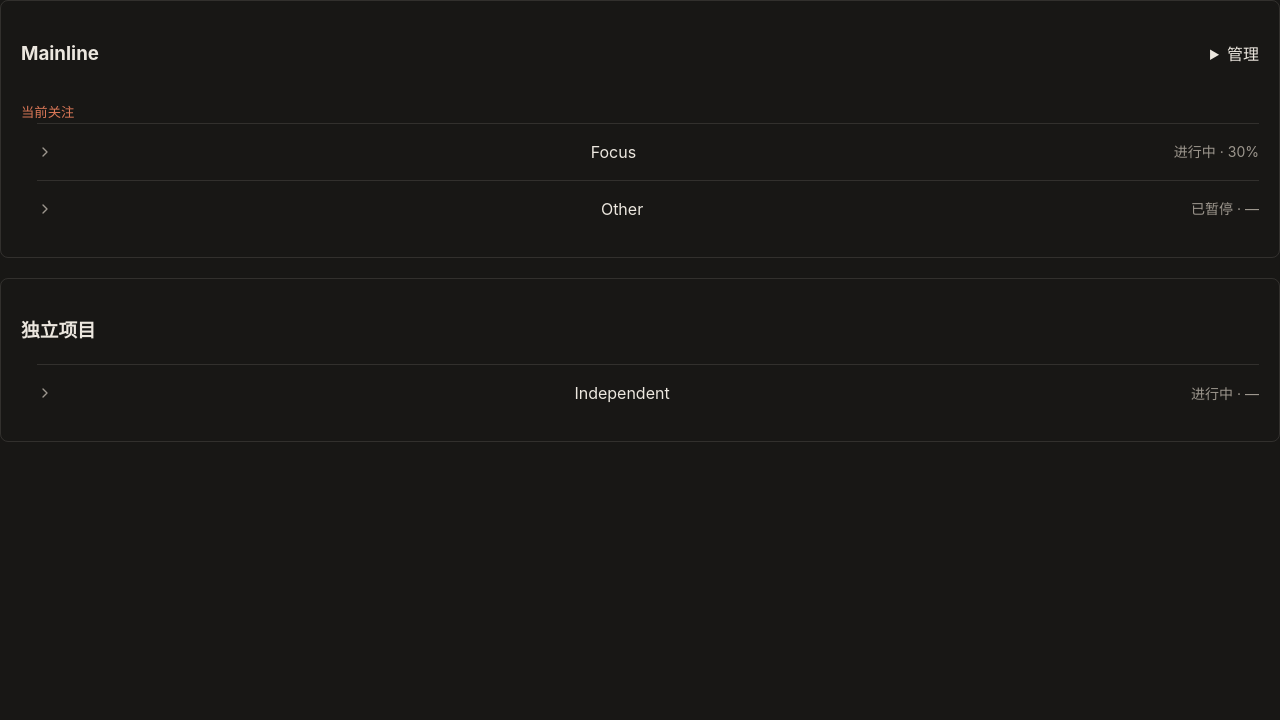
Test case: shows all projects under a mainline, independent projects and nested ordinary actions
Expected: the text "Focus" is shown, [591, 140, 636, 164]
Expected: the heading "独立项目" is shown, [21, 319, 96, 342]
Click the text "Other" at (622, 208), box [601, 196, 643, 220]
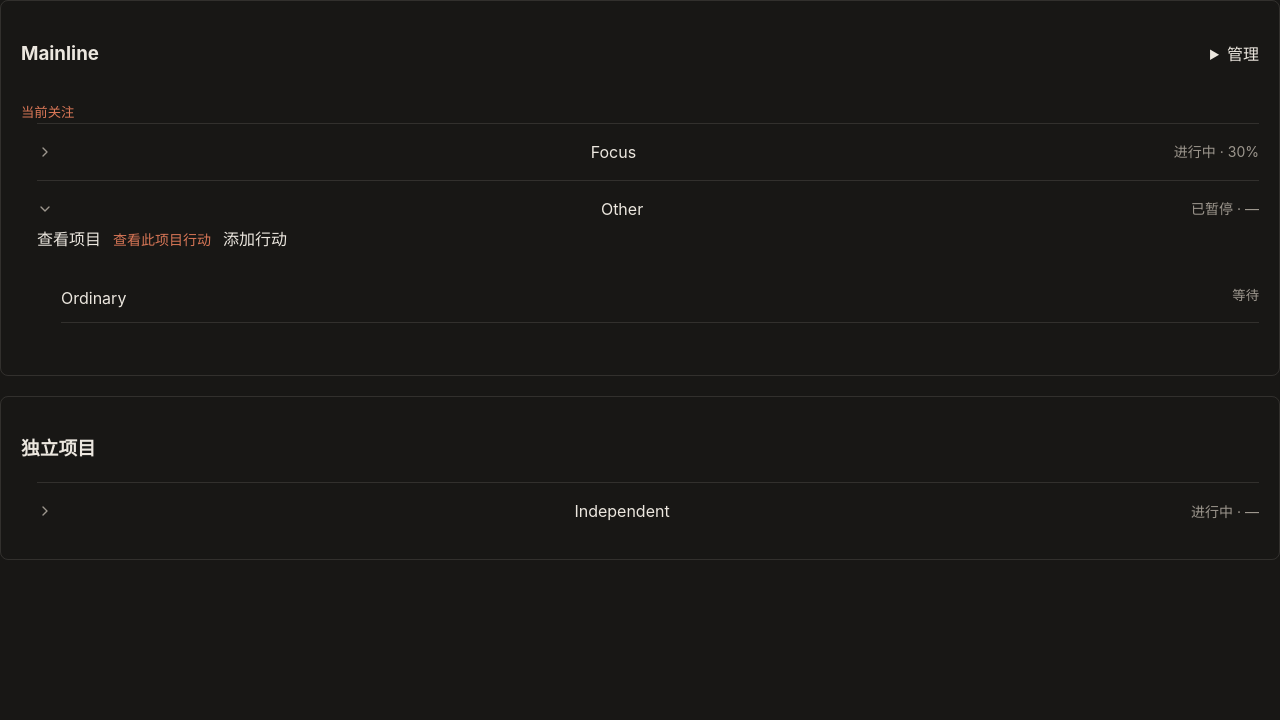
Expected: the link "Ordinary" is shown, [61, 286, 126, 310]
